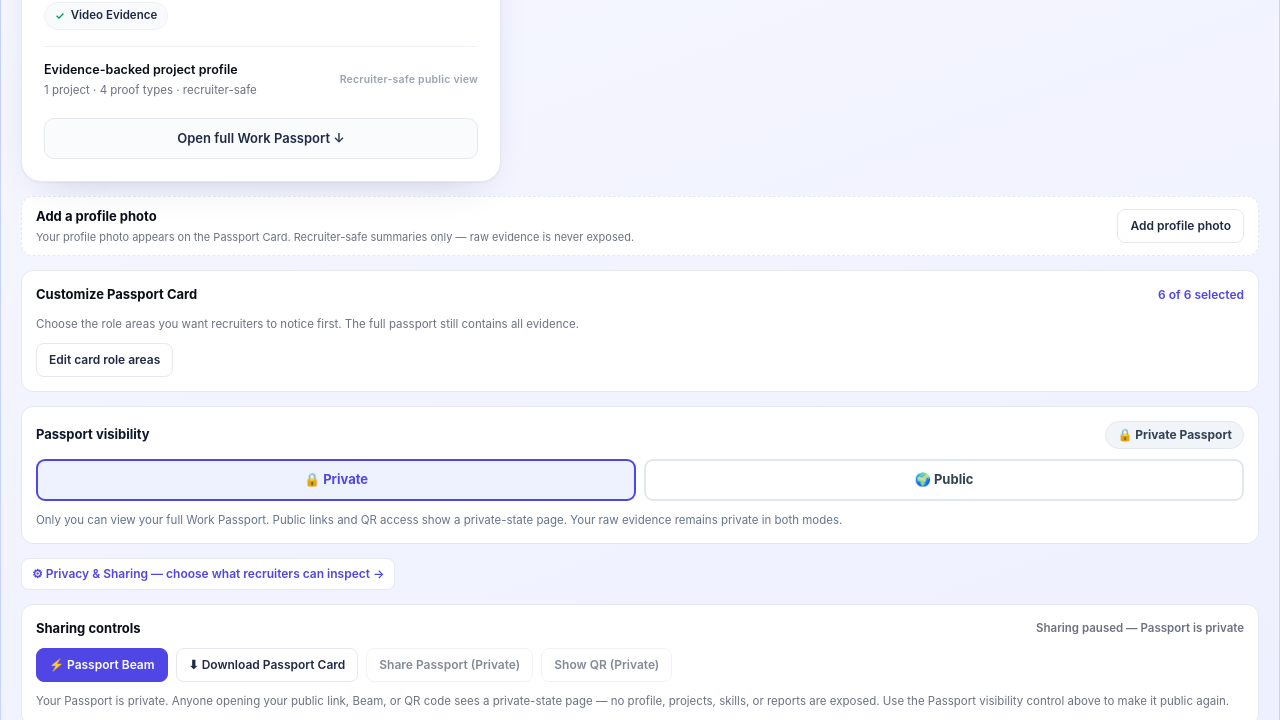
Test case: Verified Passport Card preview (private) › deselecting a role area removes it from the card face immediately
(page scrolled)
// Open the editor, then deselect the first currently-selected option.
Click the button with test id "edit-card-role-areas" at (105, 360), box [36, 343, 173, 377]
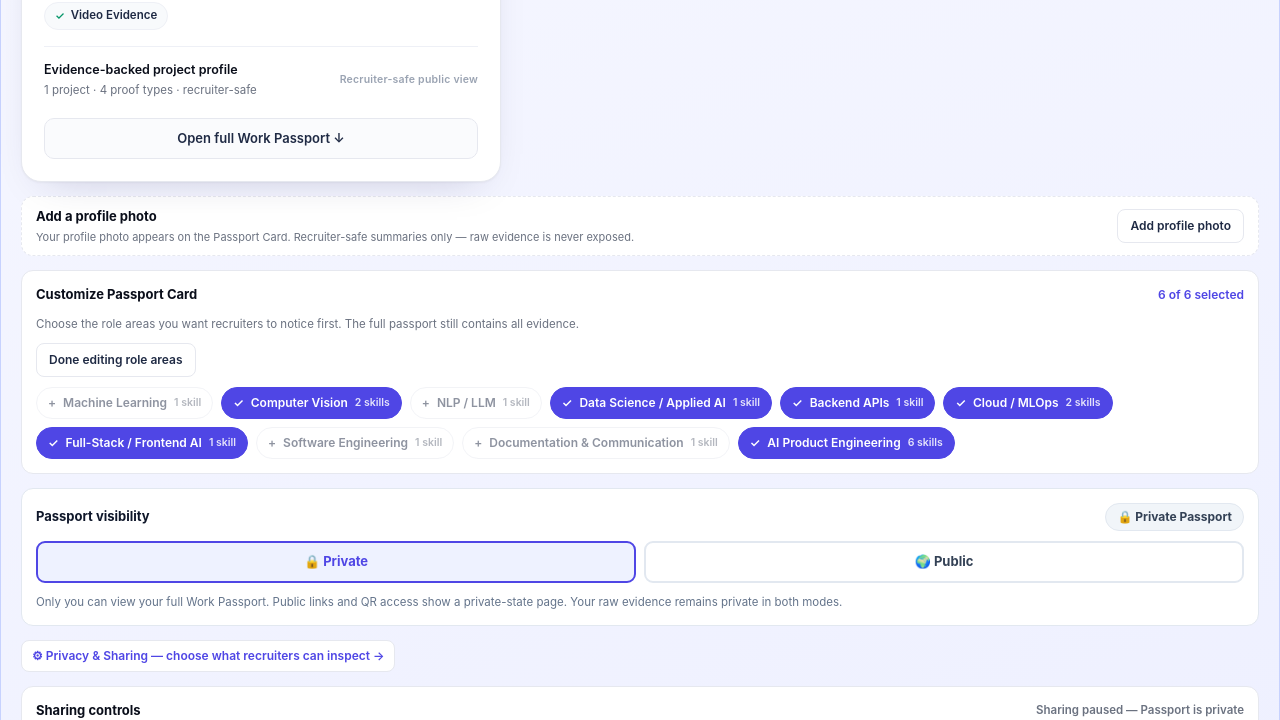
Click the button with test id "card-role-area-option" showing "✓ Computer Vision 2 skills" at (312, 403), box [221, 387, 402, 419]
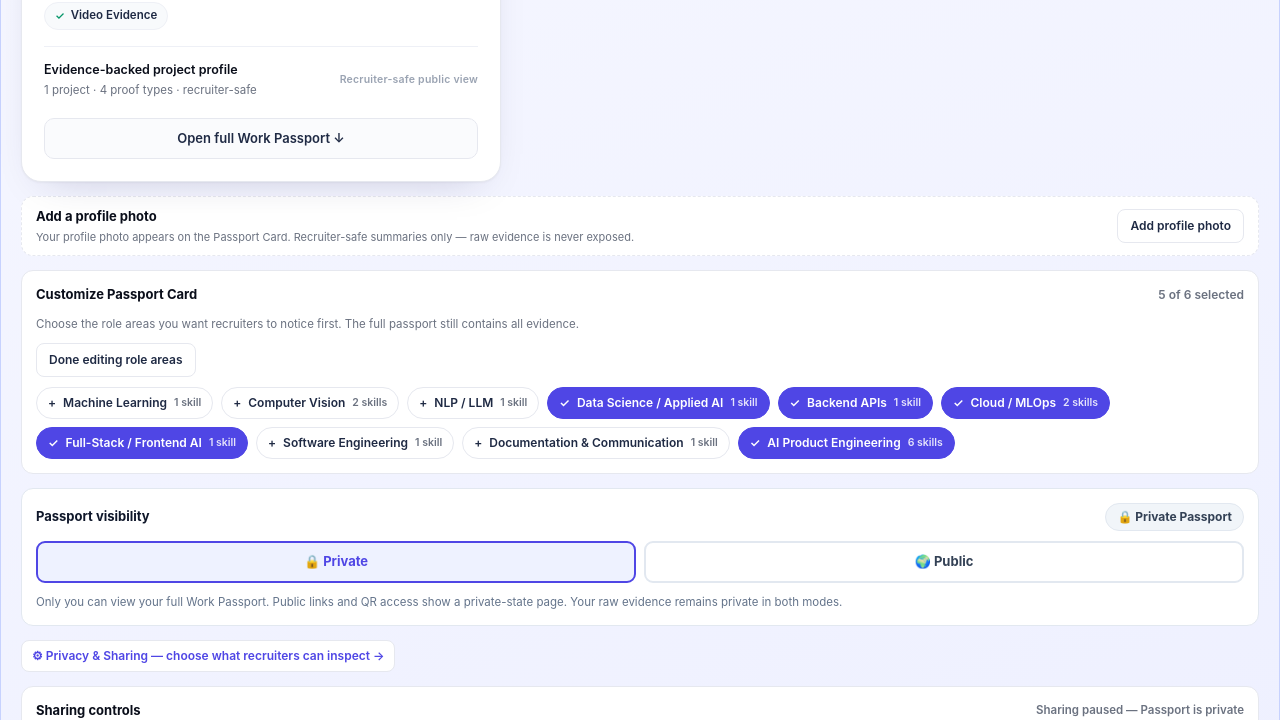
Check: the text "Computer Vision" is not shown
Check: the text with test id "card-role-area-count" reads "5 of 6 selected", box [1158, 286, 1244, 304]
Click the button with test id "card-role-area-option" showing "+ Machine Learning 1 skill" at (125, 403), box [36, 387, 213, 419]
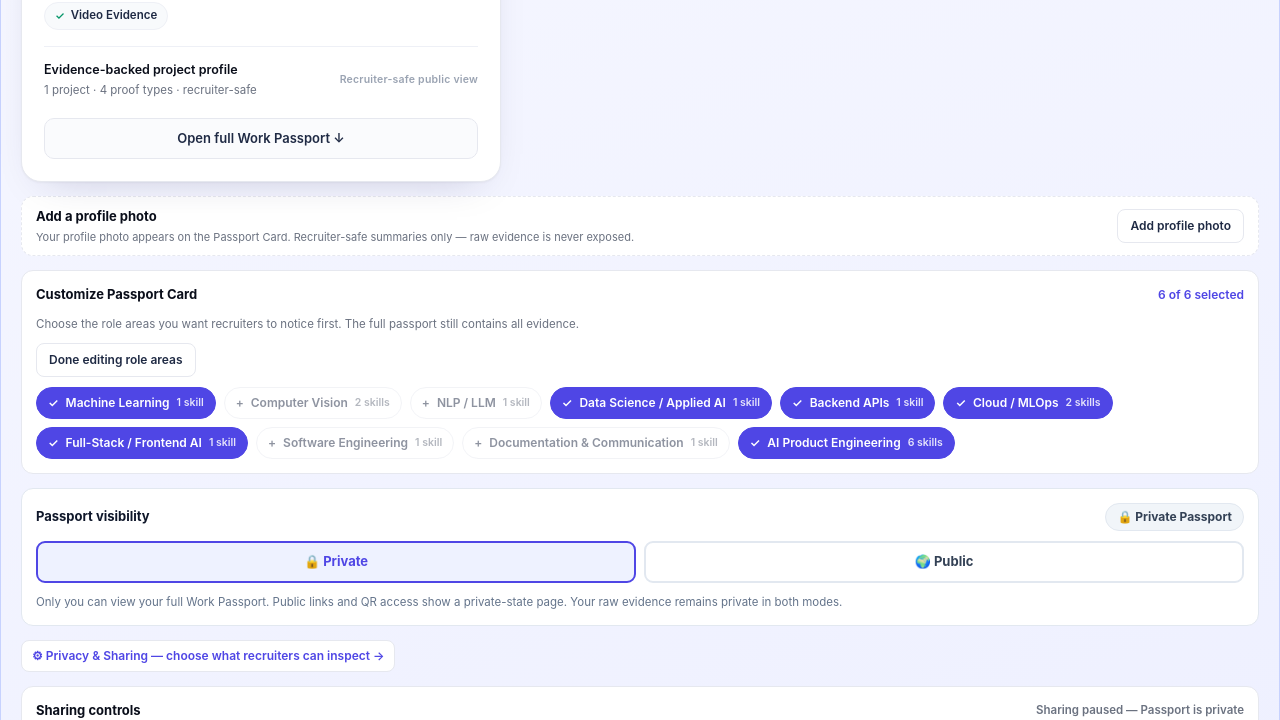
Check: the text with test id "card-role-area-count" reads "6 of 6 selected", box [1158, 286, 1244, 304]
